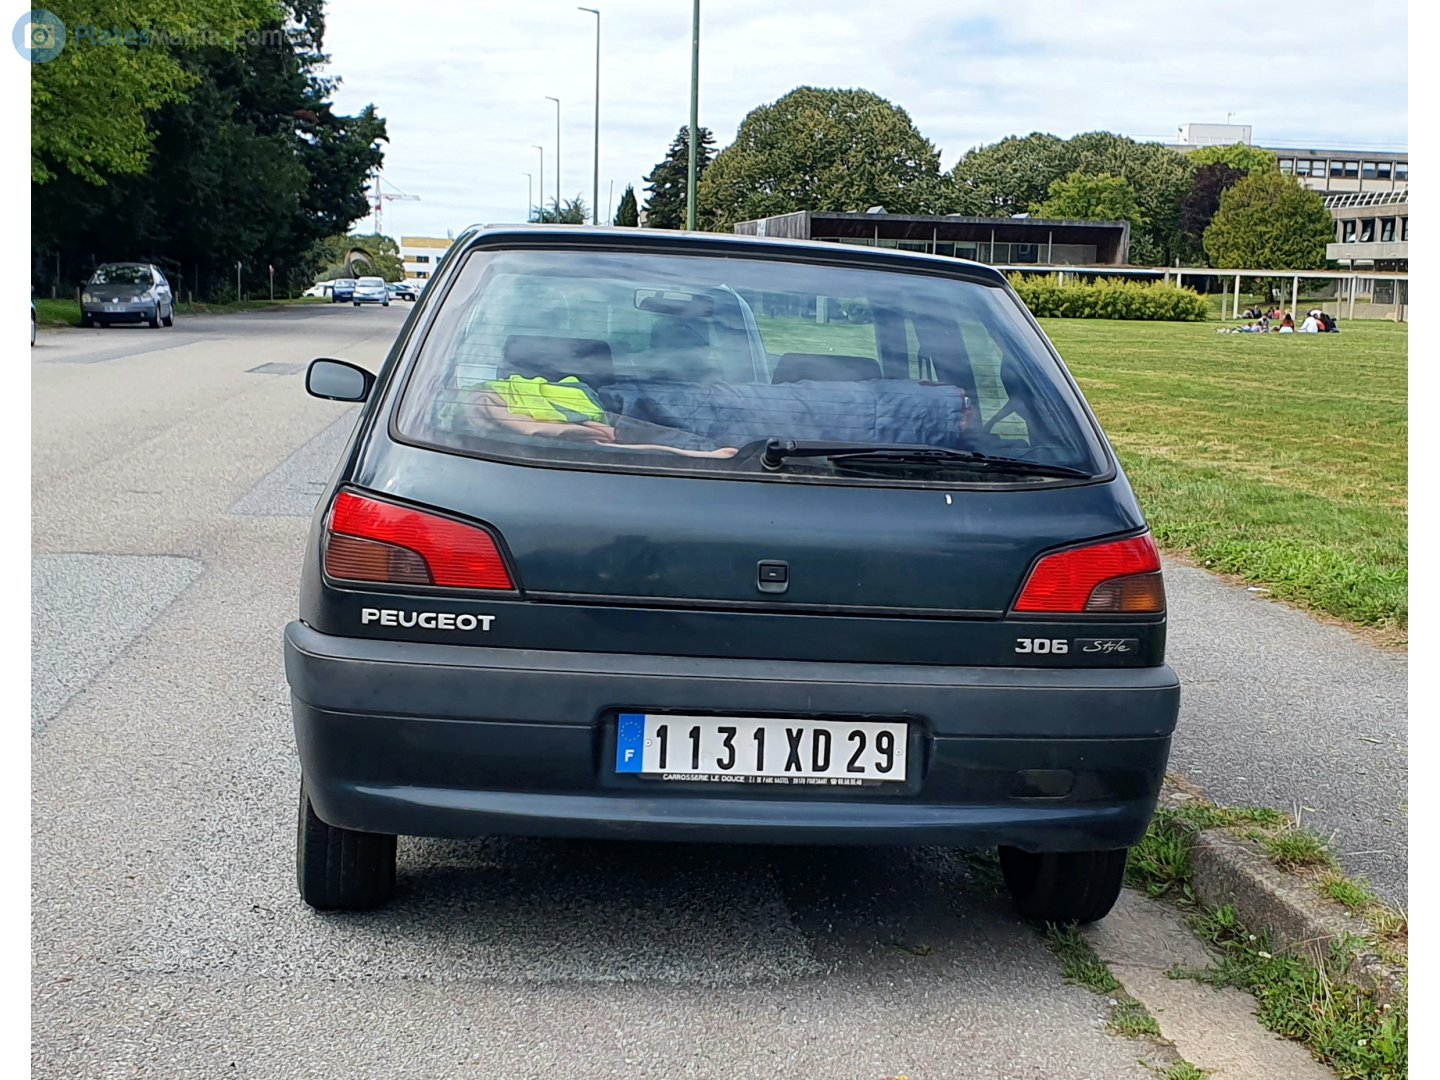licence plate: (610, 703, 915, 791)
